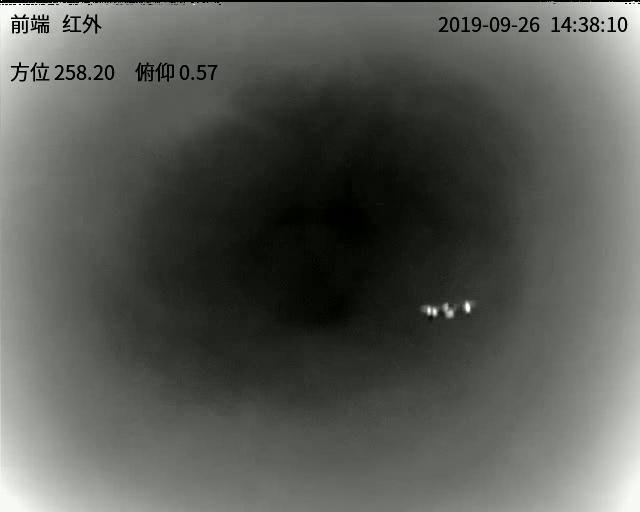DRONE: (419, 300, 476, 324)
